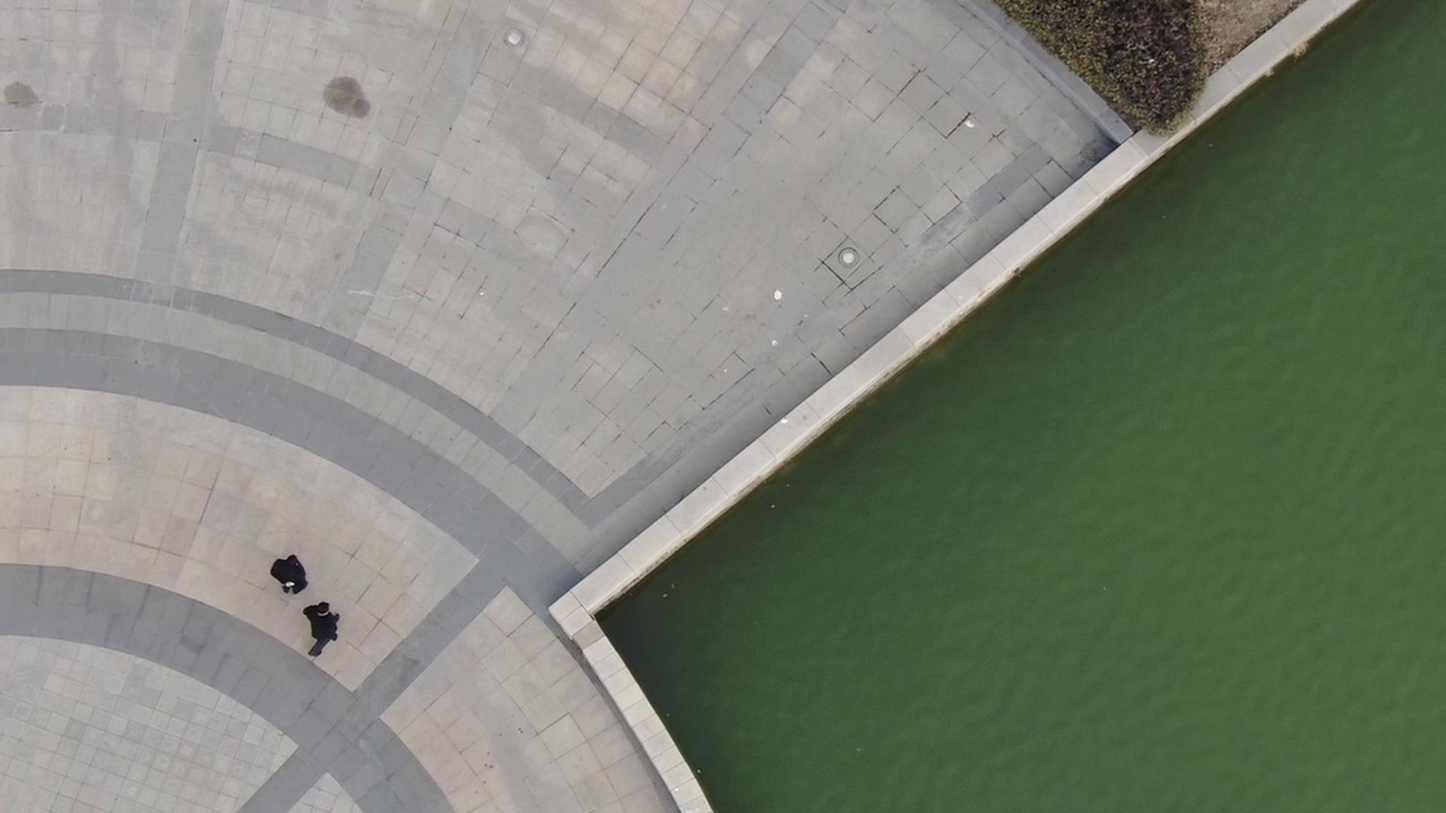human: (257, 545, 316, 601), (298, 592, 349, 654)
